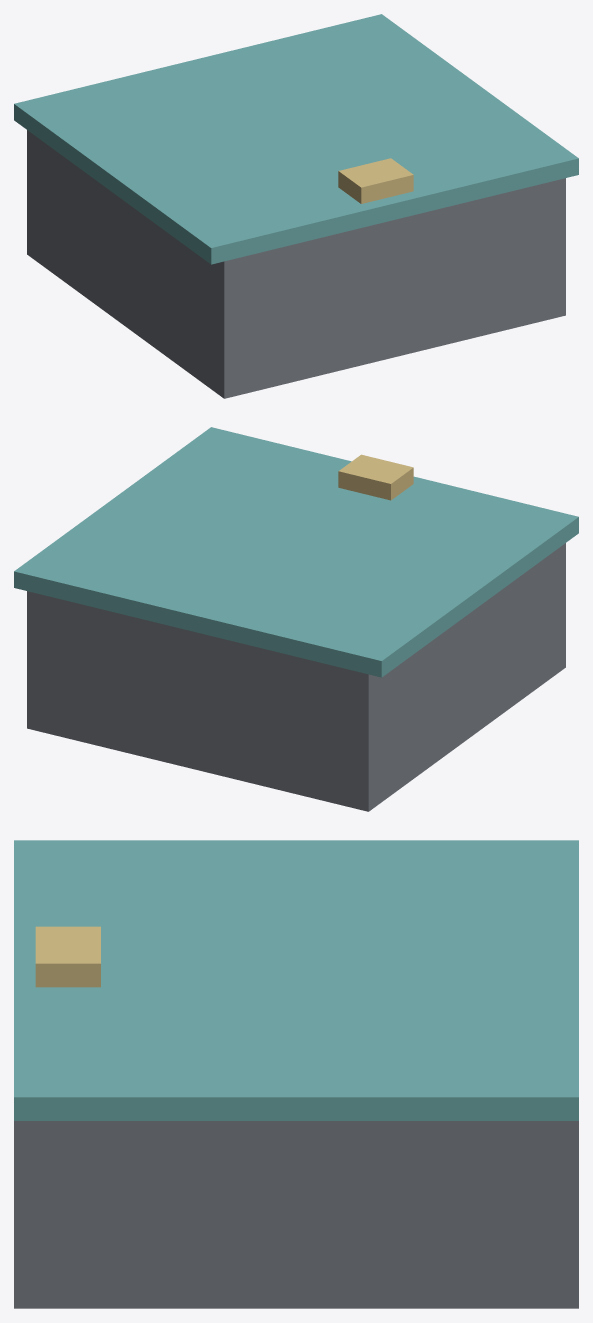
The model's file is roof_hatch.glb.
3 renders of one model, top to bottom at view 1: azimuth 30°, elevation 25°; view 2: azimuth 150°, elevation 25°; view 3: azimuth 270°, elevation 25°, orthographic. The views are drawn at different scales.
Parts seen in each view (by area): view 1: lid, roof_hatch; view 2: lid, roof_hatch; view 3: lid, roof_hatch.
Boxes of the visible parts, x1,y1,x2,y2 form: lid: (14,14,578,264); roof_hatch: (27,130,565,398); lid: (14,427,578,677); roof_hatch: (27,543,565,811); lid: (14,840,578,1120); roof_hatch: (14,1121,578,1308).
Size of the model in its own units: 1.4 by 0.62 by 1.3.
